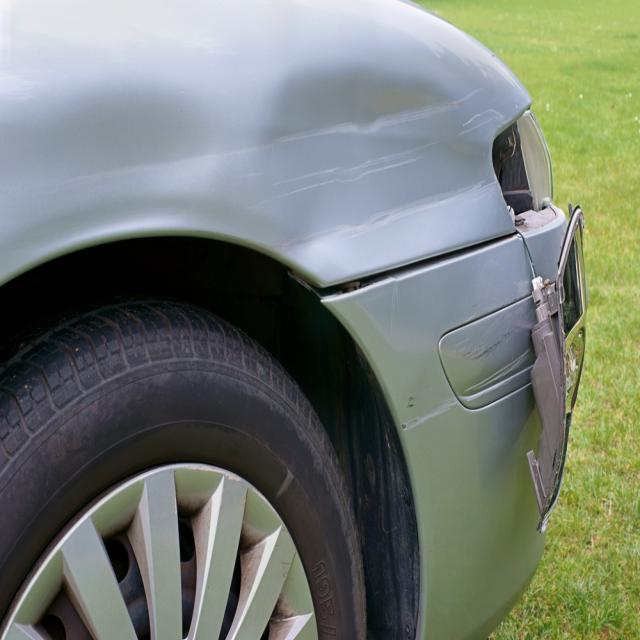Cabossage: (258, 54, 498, 259), (0, 68, 213, 246)
Phare abime: (487, 93, 570, 245)
Rayure: (54, 79, 489, 185), (234, 104, 504, 218), (257, 170, 497, 265), (447, 286, 535, 401)
